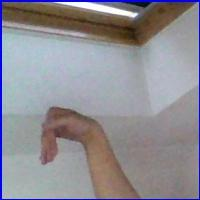del: (35, 101, 105, 171)
